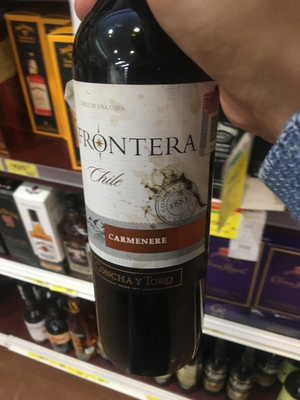frontera carmenere: (61, 12, 227, 363)
